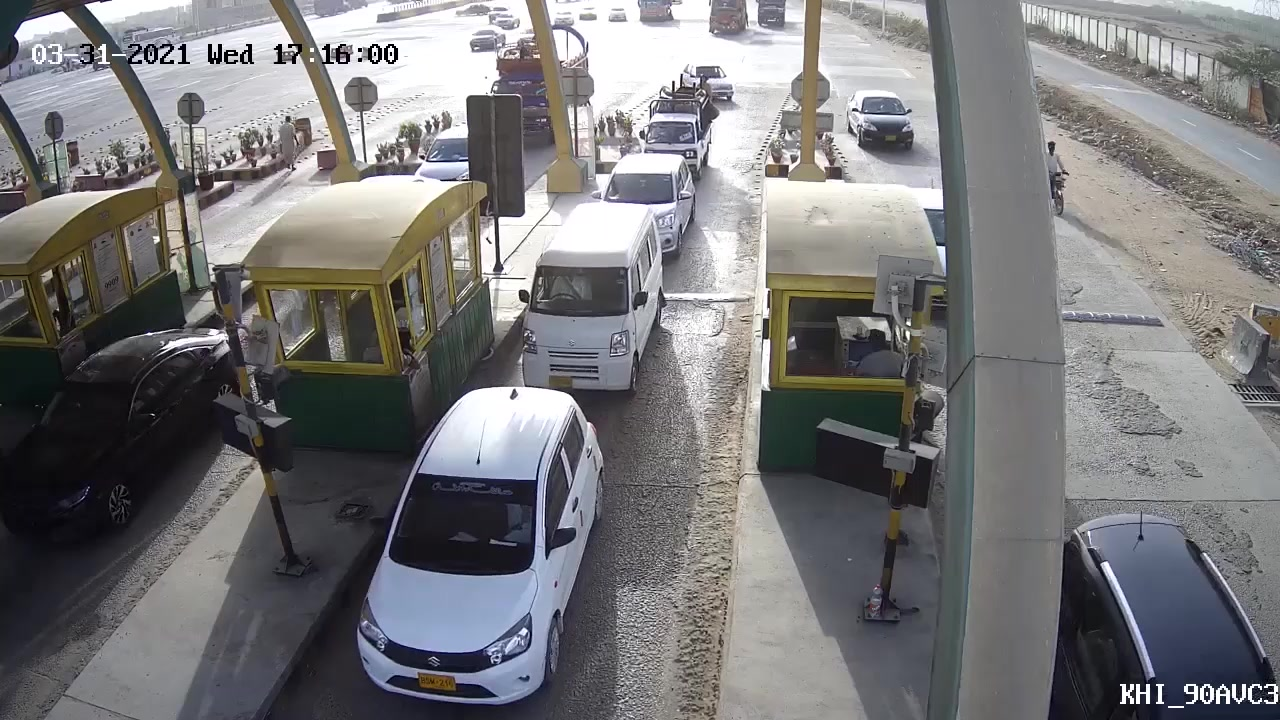F1: (343, 384, 613, 704), (508, 194, 669, 398)
